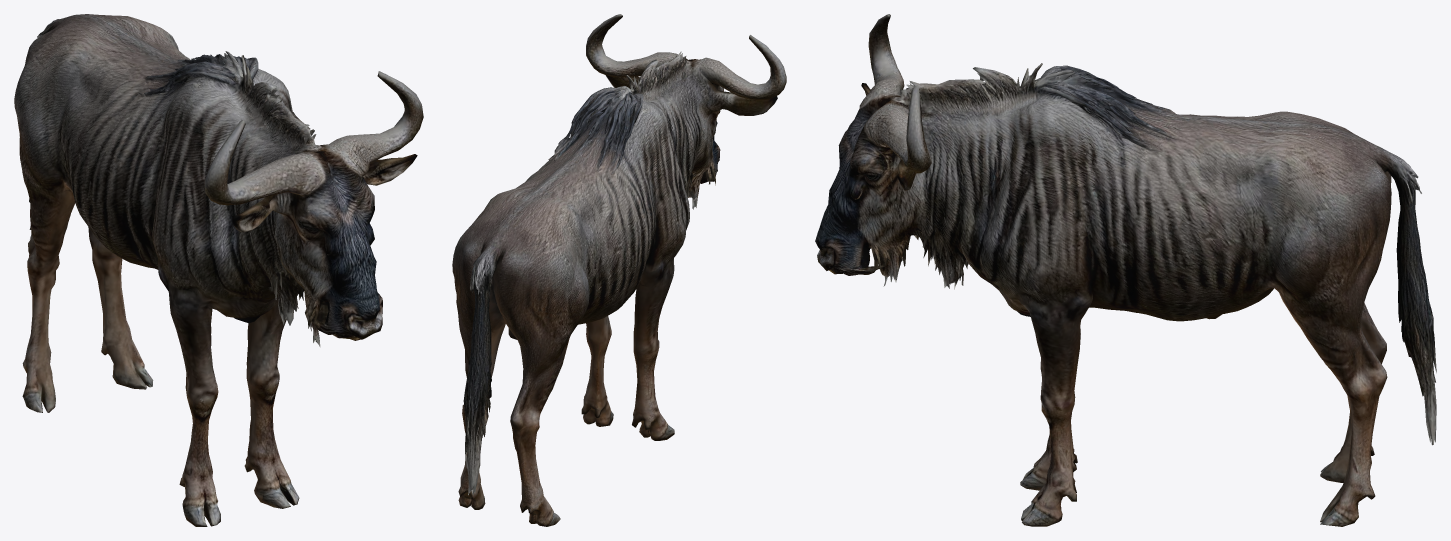
File: wildebeest.glb
The picture shows the model from 3 angles, left to right: view 1: azimuth 30°, elevation 25°; view 2: azimuth 150°, elevation 25°; view 3: azimuth 270°, elevation 25°; orthographic projection. The views are drawn at different scales.
Parts seen in each view (by area): view 1: tripo_node_ca324327-585c-4ddc-81e6-1ad4f77f24e7; view 2: tripo_node_ca324327-585c-4ddc-81e6-1ad4f77f24e7; view 3: tripo_node_ca324327-585c-4ddc-81e6-1ad4f77f24e7.
Part boxes in pixels (x1,y1,x2,y2): tripo_node_ca324327-585c-4ddc-81e6-1ad4f77f24e7: (14,14,423,526); tripo_node_ca324327-585c-4ddc-81e6-1ad4f77f24e7: (452,14,786,526); tripo_node_ca324327-585c-4ddc-81e6-1ad4f77f24e7: (815,14,1436,526).
Size of the model in its own units: 0.4257 by 0.8047 by 1.
1 material, 1 textured.
